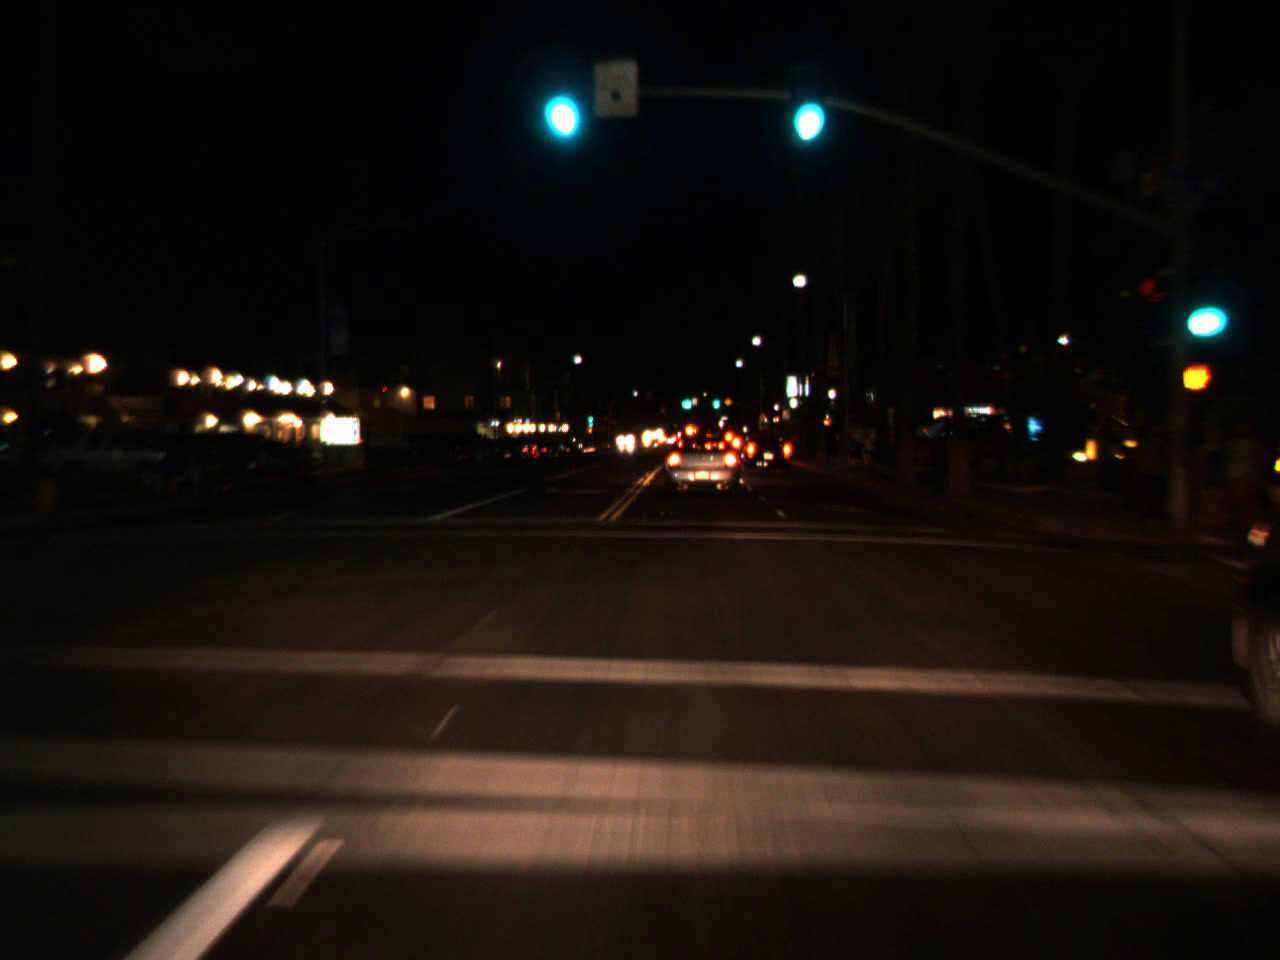go: (1175, 272, 1227, 350), (784, 67, 827, 151), (541, 61, 580, 148), (677, 389, 693, 410), (587, 403, 594, 430), (711, 392, 720, 410)
